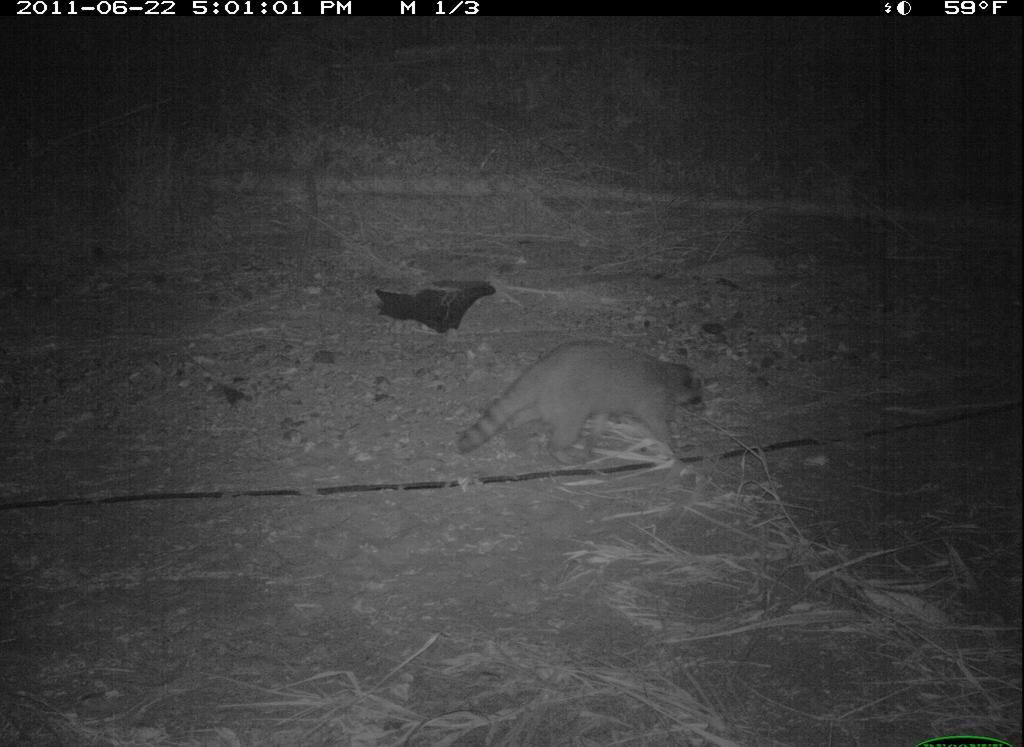raccoon: (456, 333, 715, 469)
